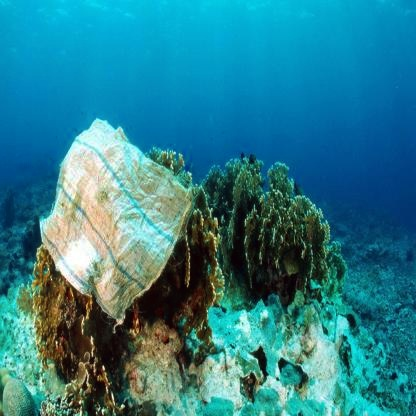misc: (32, 116, 194, 328)
